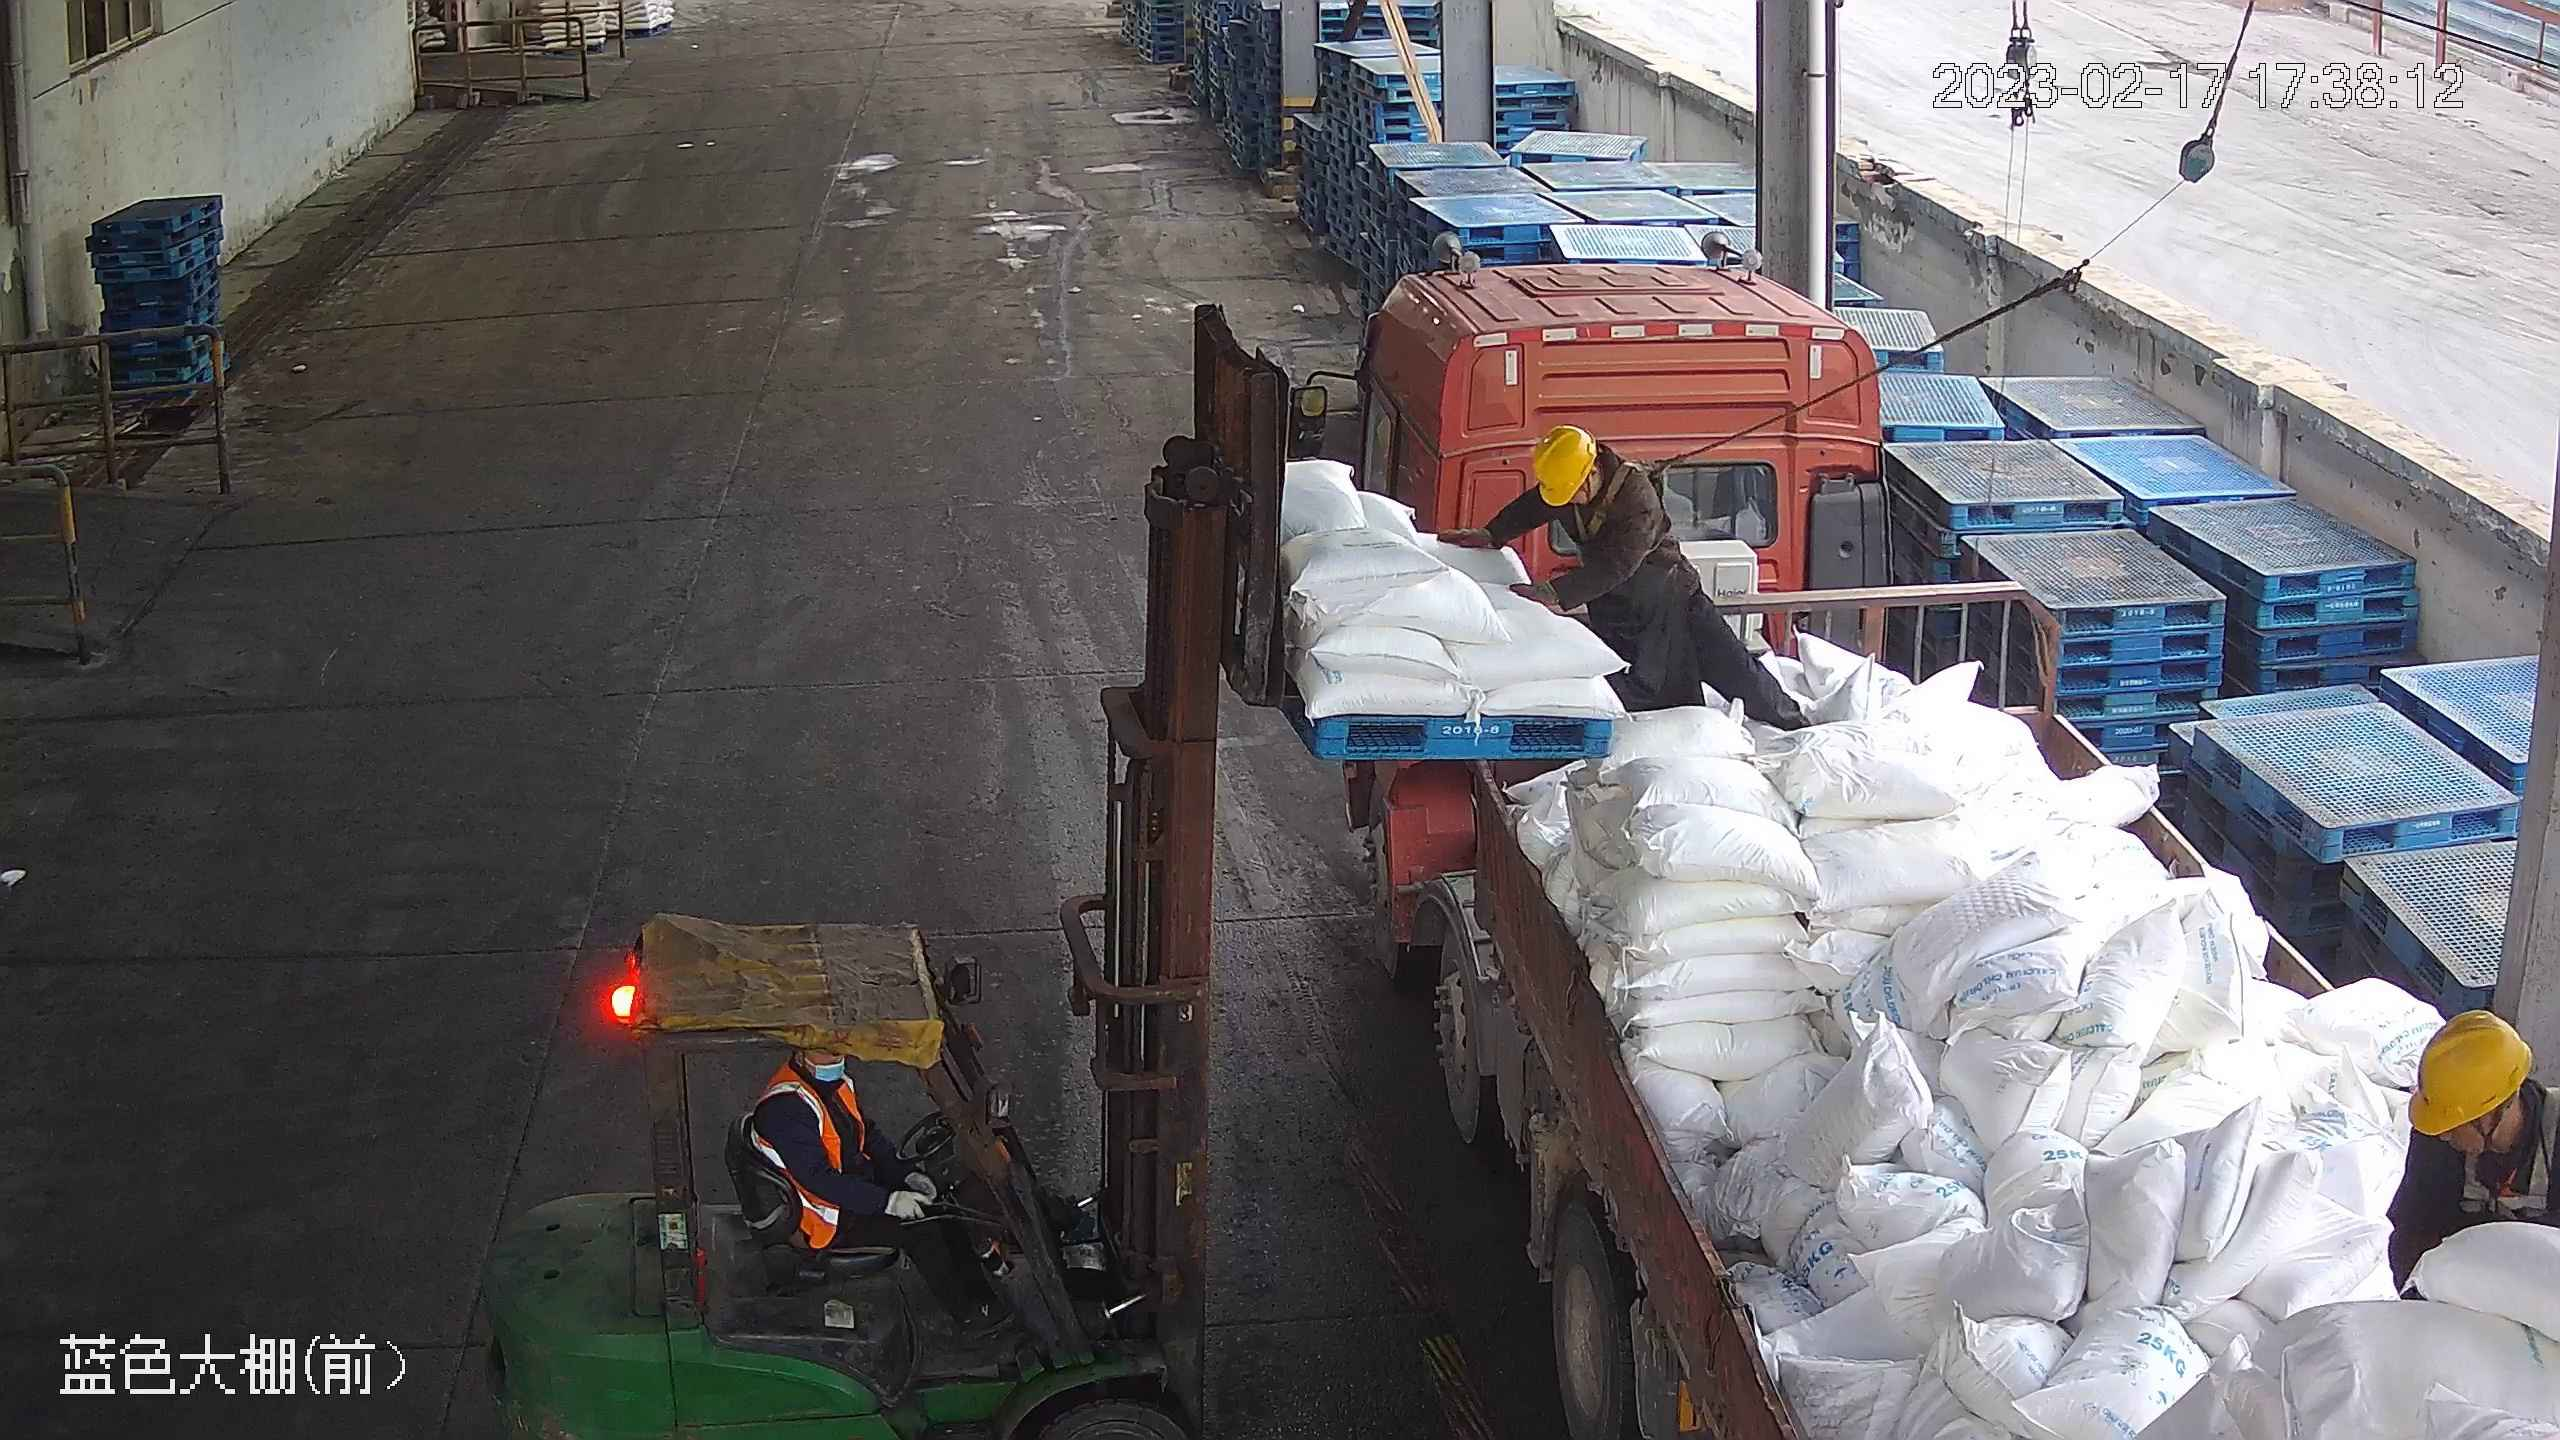belt: (1558, 449, 1677, 554), (2461, 1108, 2560, 1224)
head: (2396, 1009, 2559, 1227), (1504, 420, 1666, 548), (752, 1039, 882, 1152)
helmet: (2403, 1008, 2533, 1137), (1530, 423, 1598, 505)
people: (1440, 423, 1795, 730), (743, 1037, 988, 1340)
truck: (1279, 199, 2560, 1440)
